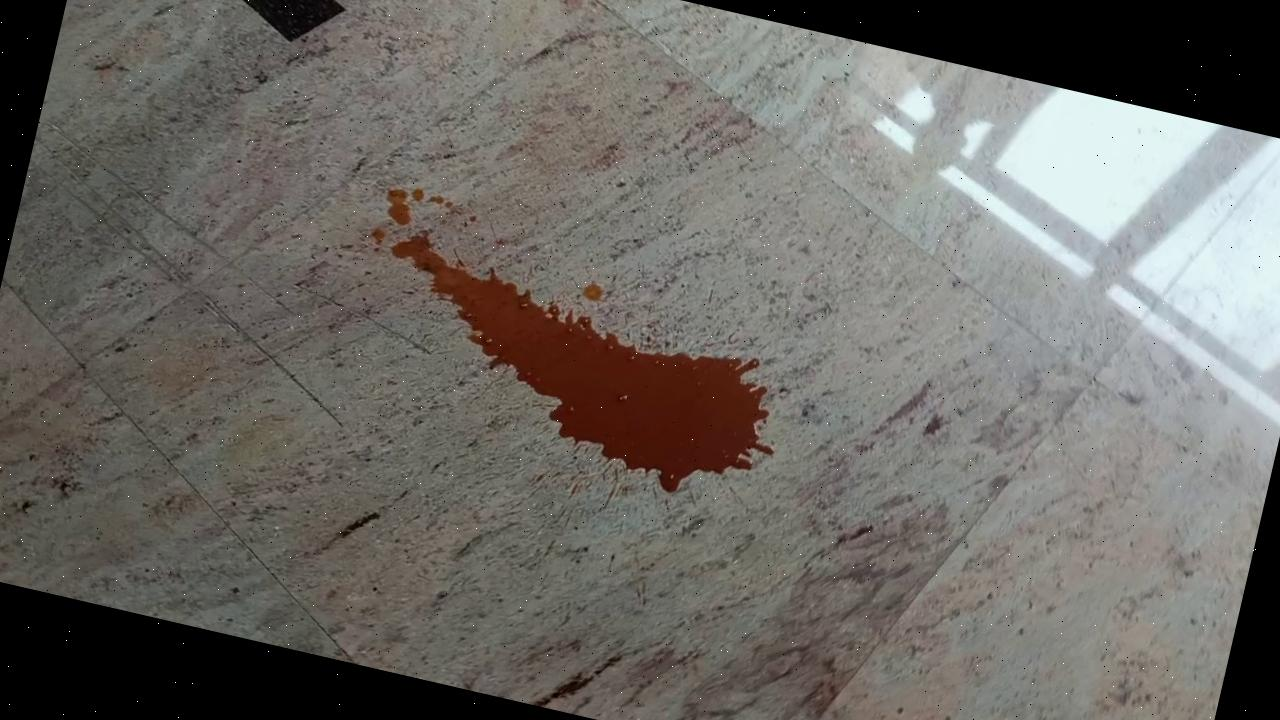dirty_floor: (329, 182, 812, 510)
